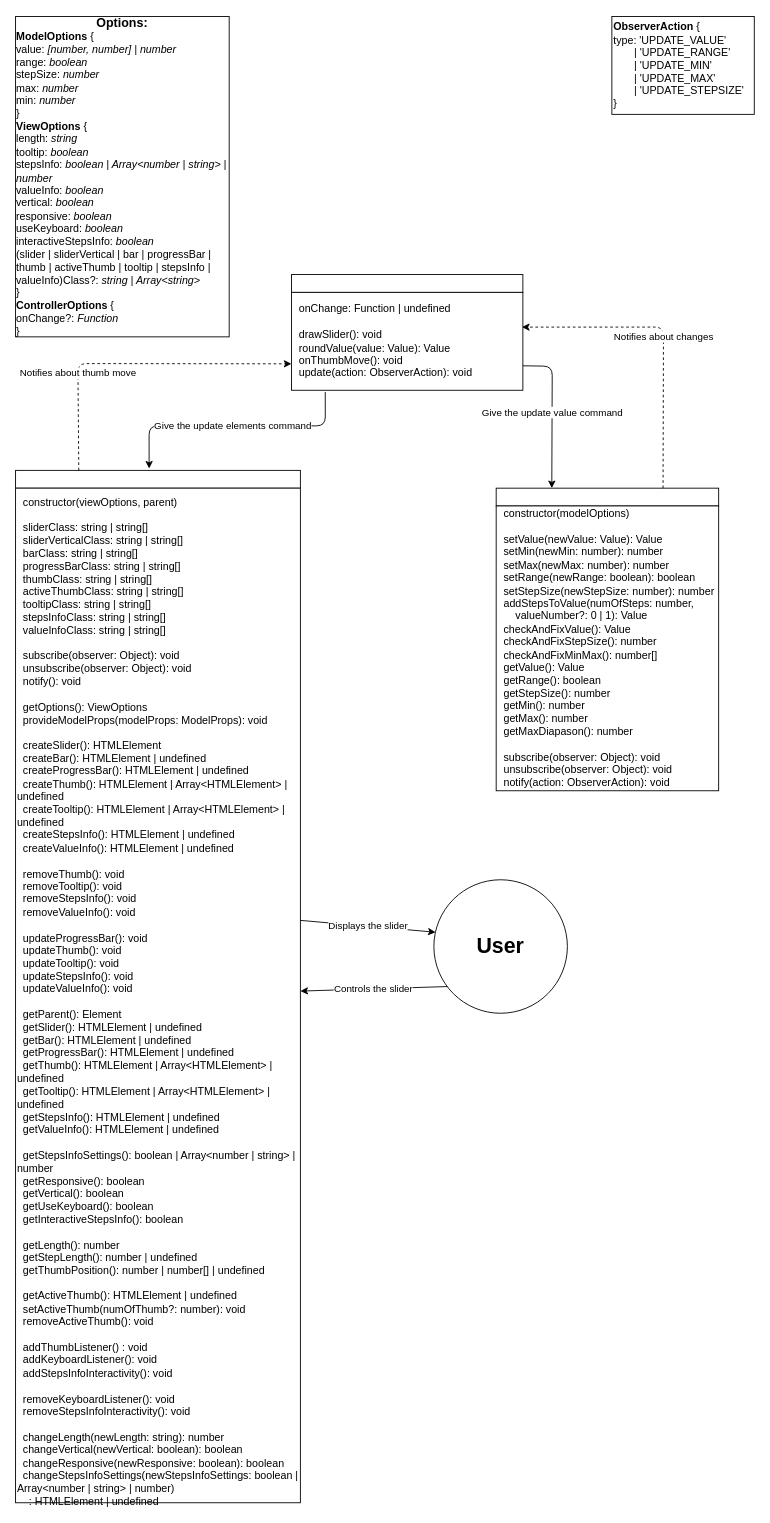
Some shapes in this 770 by 1523 pixel diagram are drawn without their labels. Here are the shapes that lost their labels. From the top down, the box of each, then its label:
(291, 274, 523, 292): Controller
(15, 469, 300, 488): View
(495, 487, 719, 506): Model
